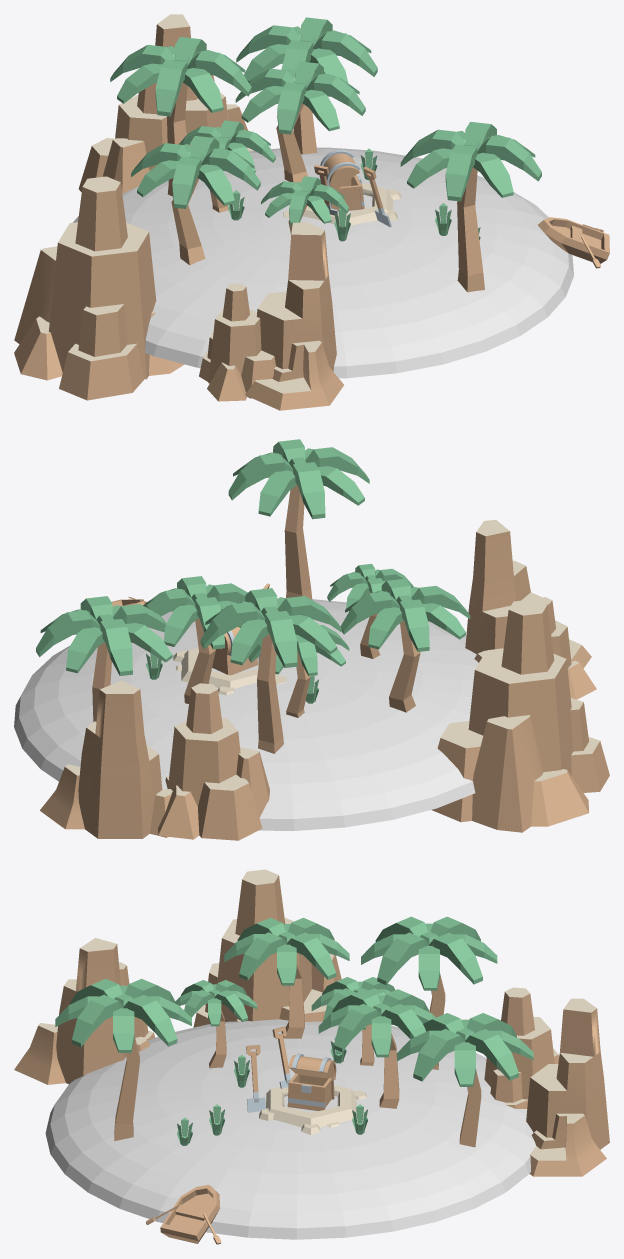
File: treasureisland.fbx
3 views of the same model, one above another, from view 1: azimuth 30°, elevation 25°; view 2: azimuth 150°, elevation 25°; view 3: azimuth 270°, elevation 25° (orthographic). The views are drawn at different scales.
Parts seen in each view (by area): view 1: Sphere, formation_rock.000, formationLarge_rock.001, Group 154.001, Group 154.002, formation_rock.001, Group 20, Group 20.003, Group 154, formation_rock.002, Group 20.005, Group 152.002 (+10 smaller); view 2: Sphere, formation_rock.000, formationLarge_rock, formation_rock.002, Group 154.001, Group 154.002, Group 154, formationLarge_rock.001, Group 20, Group 20.003, Group 152.001, Group 152.002 (+9 smaller); view 3: Sphere, formationLarge_rock, formation_rock.000, formationLarge_rock.001, Group 154.001, Group 154.002, Group 154, Group 20, Group 20.003, formation_rock.002, hole, boat_small (+11 smaller).
Boxes of the visible parts, bbox=[...] form: Sphere: bbox=[72, 147, 573, 378]; formation_rock.000: bbox=[14, 176, 184, 400]; formationLarge_rock.001: bbox=[245, 222, 343, 410]; Group 154.001: bbox=[110, 37, 251, 116]; Group 154.002: bbox=[400, 121, 541, 201]; formation_rock.001: bbox=[199, 283, 275, 401]; Group 20: bbox=[131, 136, 260, 208]; Group 20.003: bbox=[235, 61, 365, 134]; Group 154: bbox=[236, 17, 377, 82]; formation_rock.002: bbox=[78, 83, 190, 193]; Group 20.005: bbox=[261, 176, 348, 225]; Group 152.002: bbox=[457, 167, 484, 292]; Sphere: bbox=[14, 598, 478, 830]; formation_rock.000: bbox=[432, 599, 609, 832]; formationLarge_rock: bbox=[40, 680, 172, 838]; formation_rock.002: bbox=[158, 683, 269, 840]; Group 154.001: bbox=[200, 588, 341, 667]; Group 154.002: bbox=[228, 439, 369, 519]; Group 154: bbox=[36, 596, 172, 675]; formationLarge_rock.001: bbox=[465, 519, 591, 668]; Group 20: bbox=[340, 578, 470, 651]; Group 20.003: bbox=[143, 576, 247, 649]; Group 152.001: bbox=[257, 634, 283, 753]; Group 152.002: bbox=[284, 485, 312, 599]; Sphere: bbox=[45, 1019, 536, 1239]; formationLarge_rock: bbox=[526, 998, 609, 1176]; formation_rock.000: bbox=[193, 869, 341, 1027]; formationLarge_rock.001: bbox=[14, 938, 150, 1084]; Group 154.001: bbox=[361, 916, 497, 990]; Group 154.002: bbox=[55, 978, 191, 1052]; Group 154: bbox=[397, 1013, 533, 1086]; Group 20: bbox=[224, 917, 349, 985]; Group 20.003: bbox=[318, 989, 435, 1057]; formation_rock.002: bbox=[484, 987, 559, 1108]; hole: bbox=[259, 1085, 366, 1134]; boat_small: bbox=[160, 1185, 220, 1243].
Size of the model in its own units: 844 by 303 by 823.
